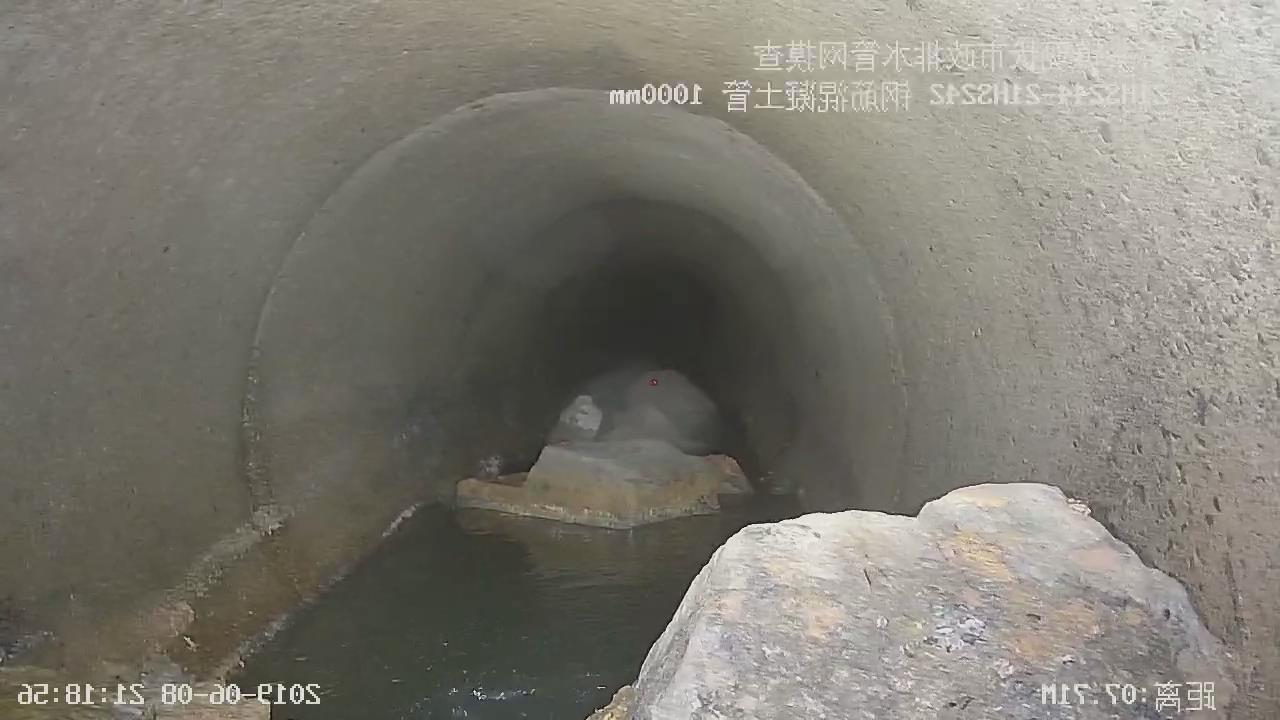ZAW: (458, 369, 752, 529)
